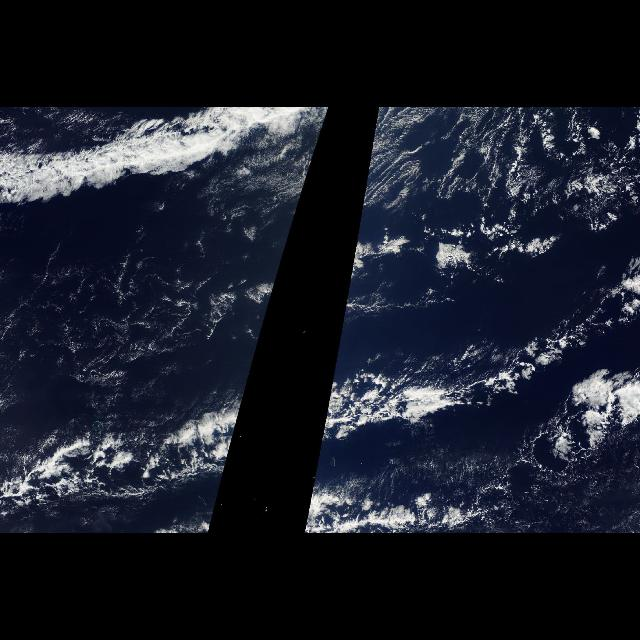Fish: (310, 306, 600, 506), (28, 306, 270, 506)
Sugar: (0, 230, 254, 434)
